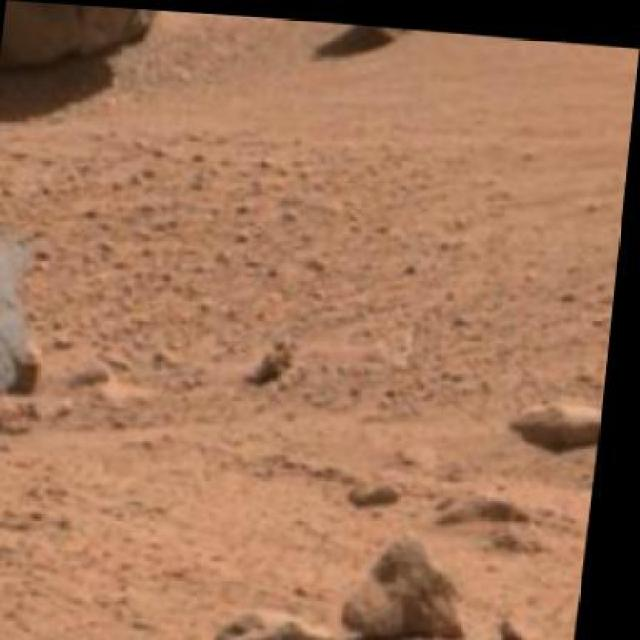rock: (0, 0, 234, 98), (348, 517, 502, 638), (331, 17, 583, 52), (206, 600, 363, 638), (572, 564, 592, 638)
